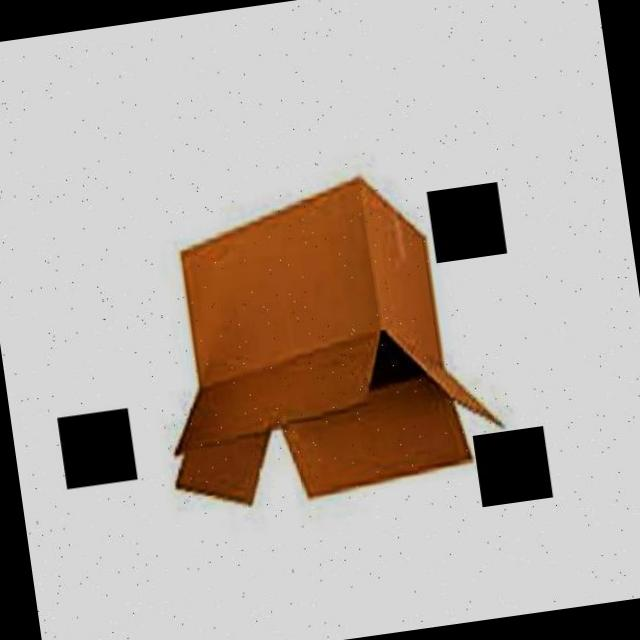box: (127, 155, 524, 524)
